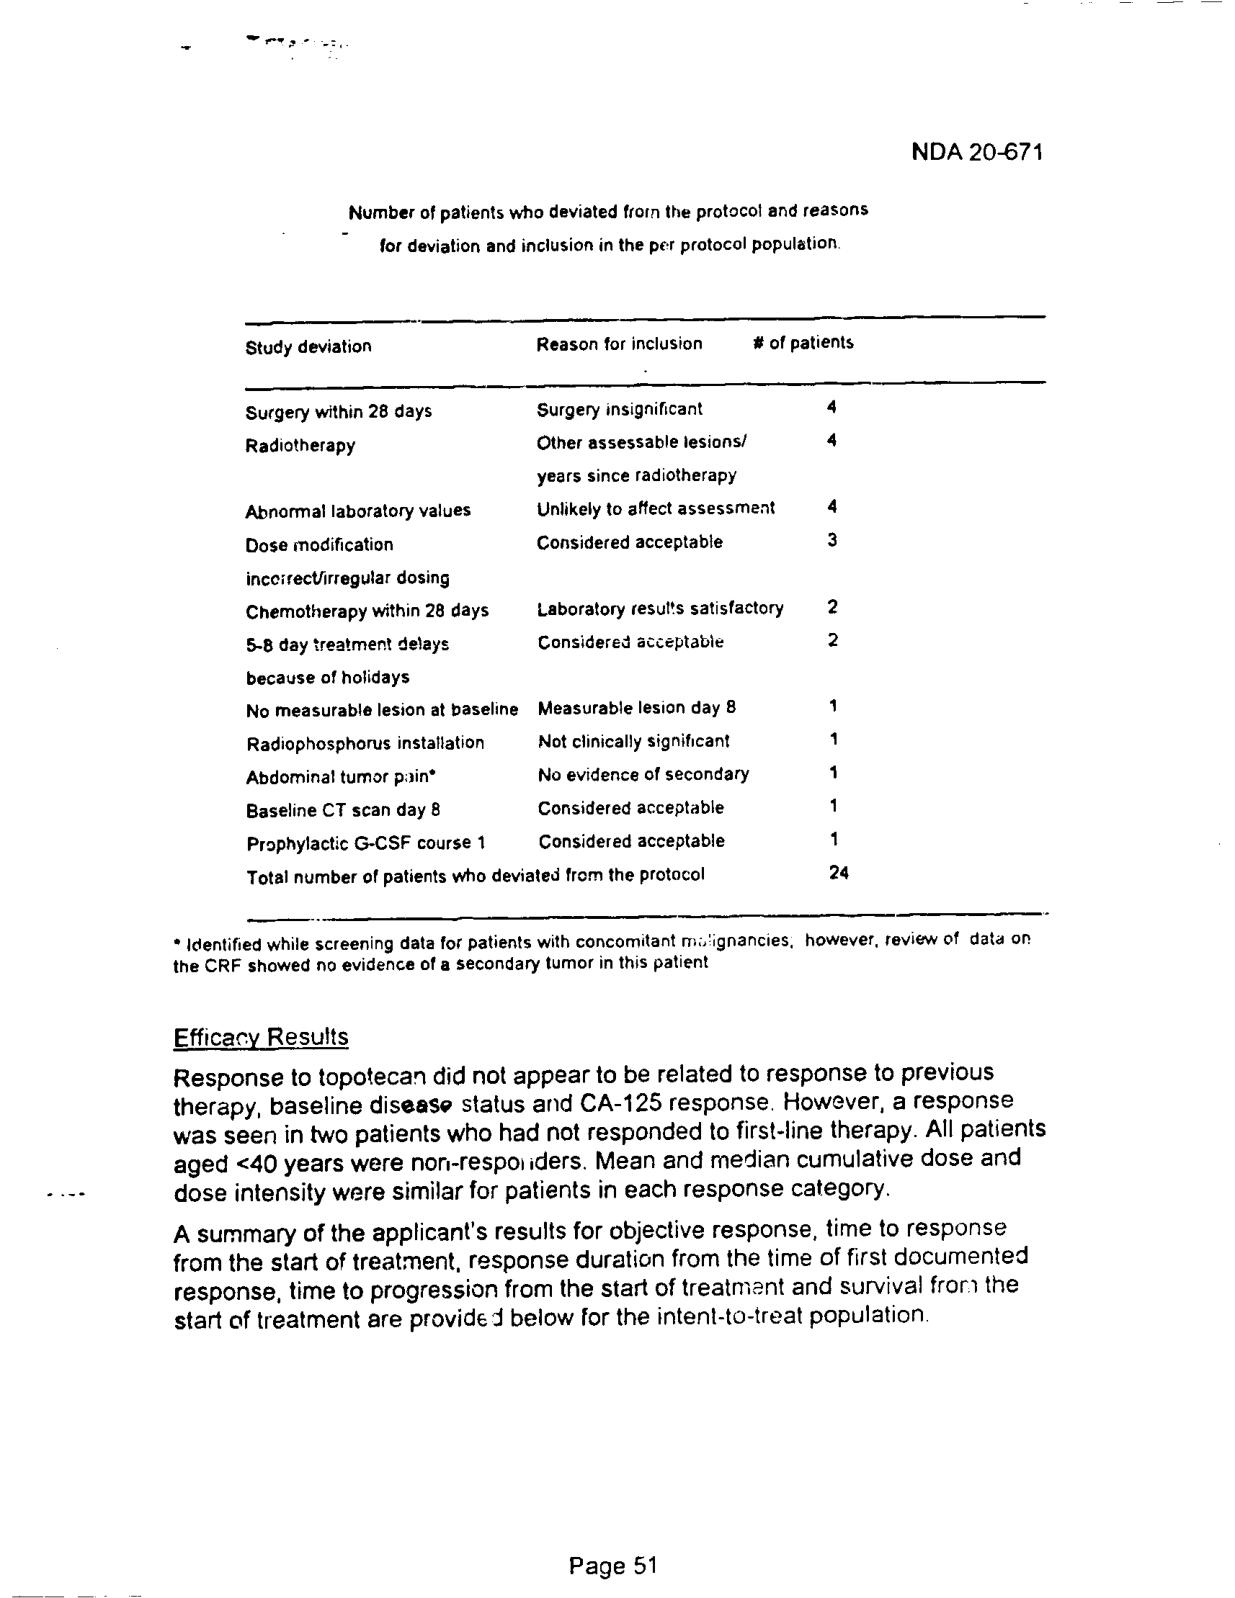partial_lined: (240, 313, 1049, 924)
